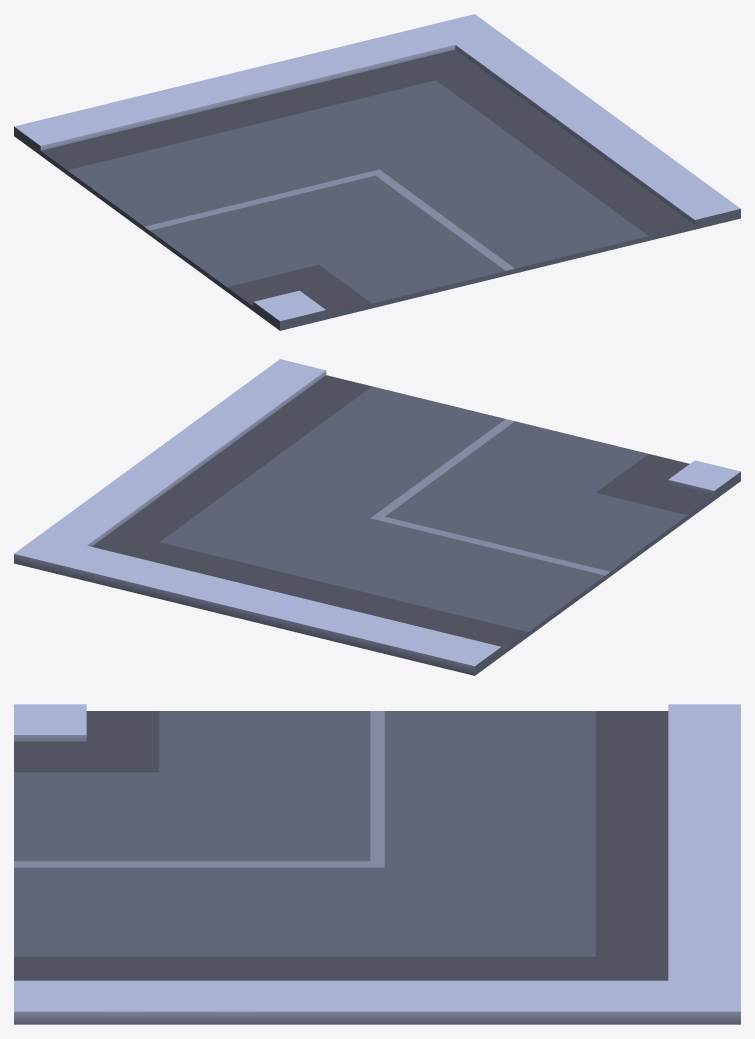
Rendered from road-bend-square.glb.
3 renders of one model, top to bottom at view 1: azimuth 30°, elevation 25°; view 2: azimuth 150°, elevation 25°; view 3: azimuth 270°, elevation 25°, orthographic. The views are drawn at different scales.
Parts seen in each view (by area): view 1: road-bend-square; view 2: road-bend-square; view 3: road-bend-square.
Part boxes in pixels (left/top/right/bottom): road-bend-square: left=14, top=14, right=740, bottom=330; road-bend-square: left=14, top=359, right=740, bottom=675; road-bend-square: left=14, top=704, right=740, bottom=1024.
Bounding box in the file's own units: 1 × 0.02 × 1.
1 material, 1 textured.
